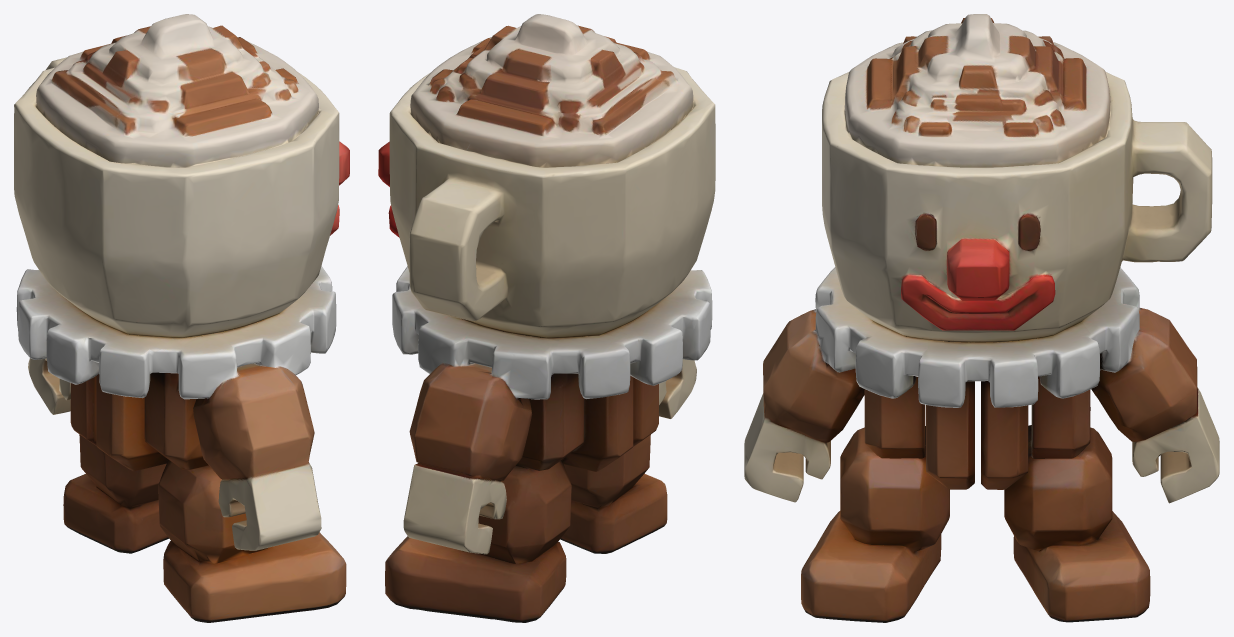
Rendered from 117-block-toy-tripo-v25-standard-15k.glb.
3 renders of one model, left to right at view 1: azimuth 30°, elevation 25°; view 2: azimuth 150°, elevation 25°; view 3: azimuth 270°, elevation 25°, orthographic. The views are drawn at different scales.
Parts seen in each view (by area): view 1: tripo_node_c564e47c-d1ca-4d6a-b0cd-36ecb4d73232; view 2: tripo_node_c564e47c-d1ca-4d6a-b0cd-36ecb4d73232; view 3: tripo_node_c564e47c-d1ca-4d6a-b0cd-36ecb4d73232.
Boxes of the visible parts, x1,y1,x2,y2 form: tripo_node_c564e47c-d1ca-4d6a-b0cd-36ecb4d73232: (14,14,349,622); tripo_node_c564e47c-d1ca-4d6a-b0cd-36ecb4d73232: (378,14,715,622); tripo_node_c564e47c-d1ca-4d6a-b0cd-36ecb4d73232: (744,14,1219,622).
Size of the model in its own units: 0.5804 by 0.9999 by 0.7747.
Materials: 1 (1 with a texture image).
